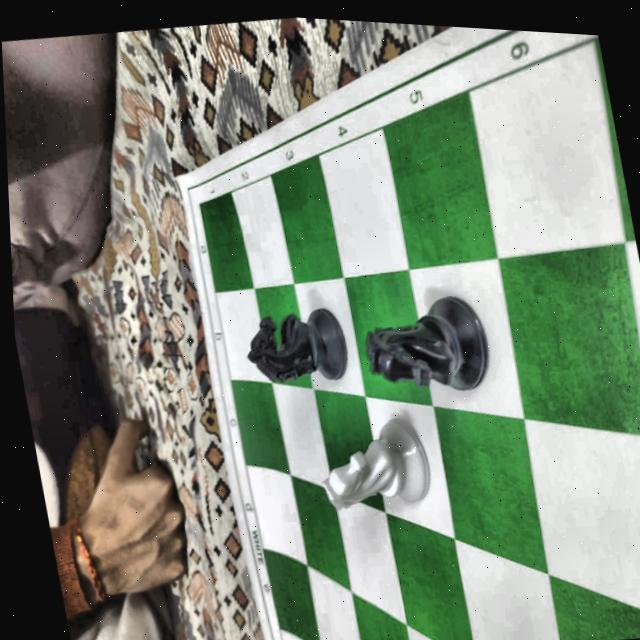BlackKnight: (352, 284, 496, 407), (240, 300, 354, 394)
WhiteKnight: (310, 413, 435, 518)
